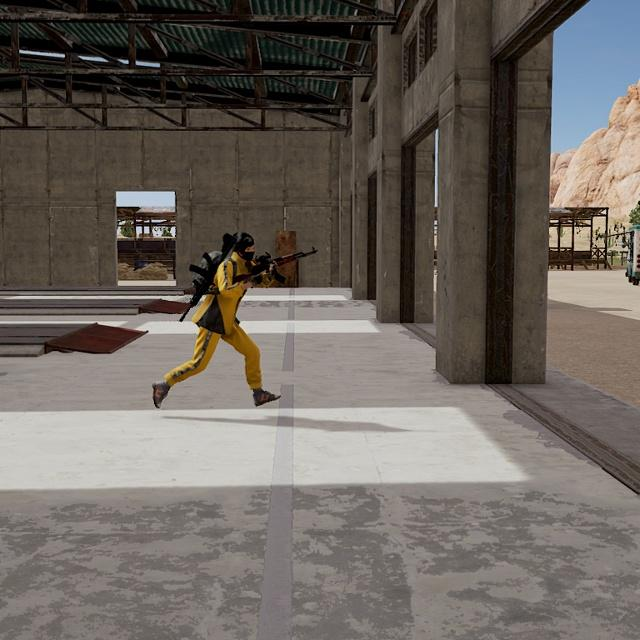head: (225, 227, 259, 264)
people: (155, 227, 281, 412)
